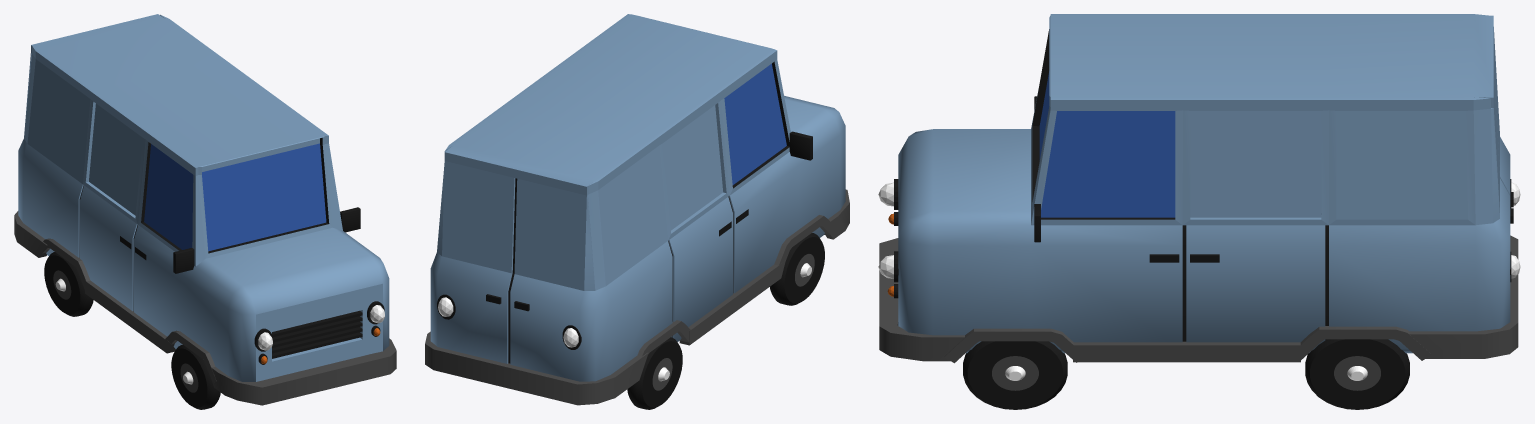
File: veh_car_parcel_van.glb
The picture shows the model from 3 angles, left to right: view 1: azimuth 30°, elevation 25°; view 2: azimuth 150°, elevation 25°; view 3: azimuth 270°, elevation 25°; orthographic projection. The views are drawn at different scales.
Visible parts, largest first — view 1: ChamferBox001; view 2: ChamferBox001; view 3: ChamferBox001.
Boxes of the visible parts, x1,y1,x2,y2 form: ChamferBox001: [14, 14, 396, 409]; ChamferBox001: [425, 14, 849, 409]; ChamferBox001: [878, 14, 1520, 409].
Bounding box in the file's own units: 2.2 × 2.6 × 5.
